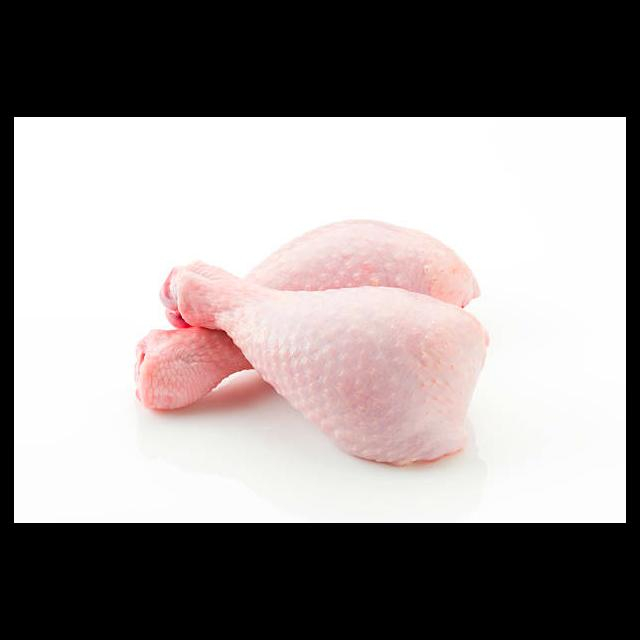chicken: (135, 219, 491, 463)
